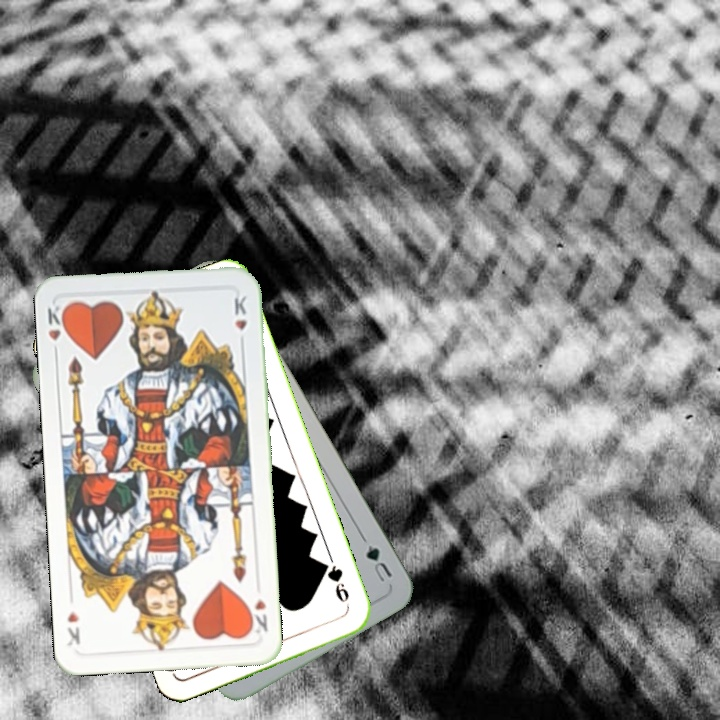G9: (318, 558, 353, 613)
GU: (362, 540, 395, 585)
HK: (43, 300, 70, 360), (245, 595, 270, 636)
